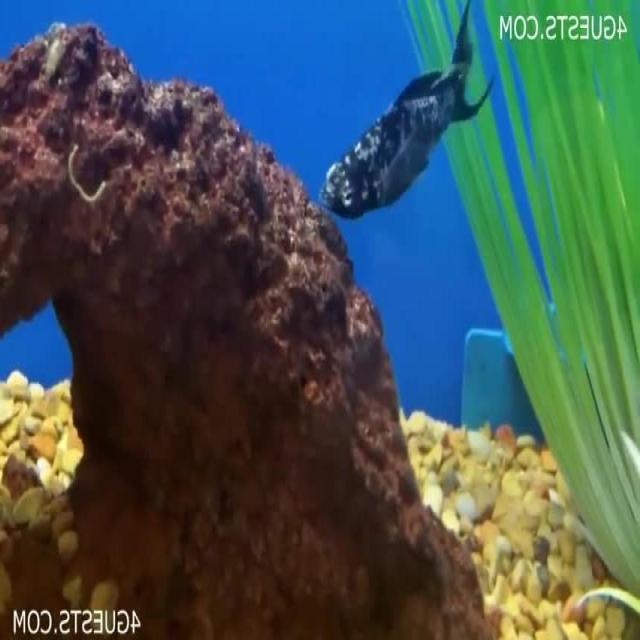PlatyFish: (314, 0, 498, 232)
